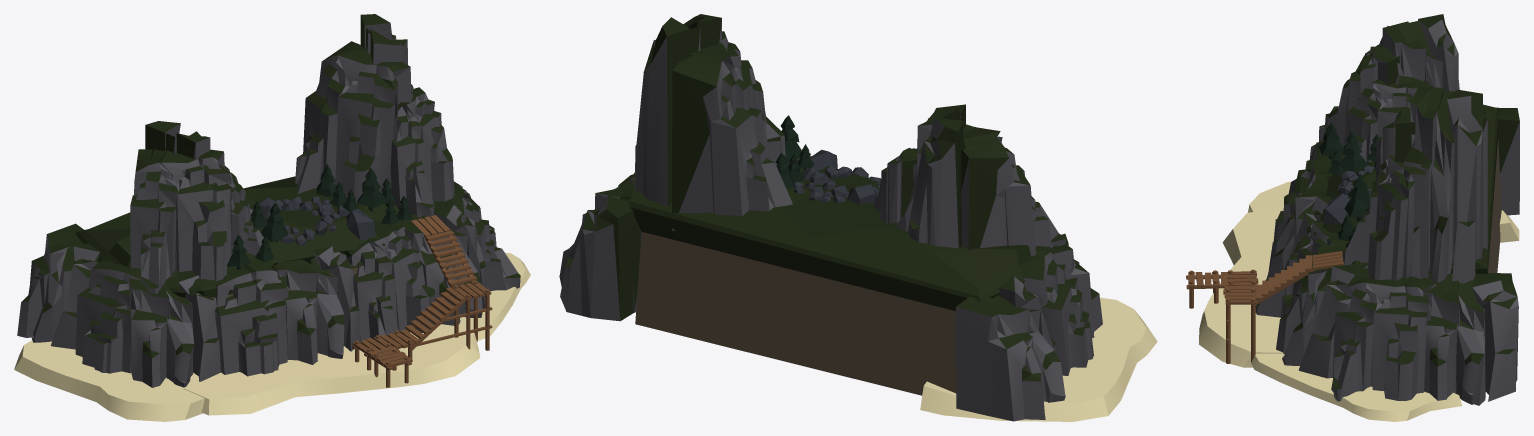
Rendered from terrain3.fbx.
3 renders of one model, left to right at view 1: azimuth 30°, elevation 25°; view 2: azimuth 150°, elevation 25°; view 3: azimuth 270°, elevation 25°, orthographic. The views are drawn at different scales.
Visible parts, largest first — view 1: Plane.002; view 2: Plane.002; view 3: Plane.002.
Part boxes in pixels (<box>): Plane.002: <box>14,14,530,421</box>; Plane.002: <box>559,14,1157,421</box>; Plane.002: <box>1186,14,1519,421</box>.
Size of the model in its own units: 15.92 by 8.09 by 8.88.
